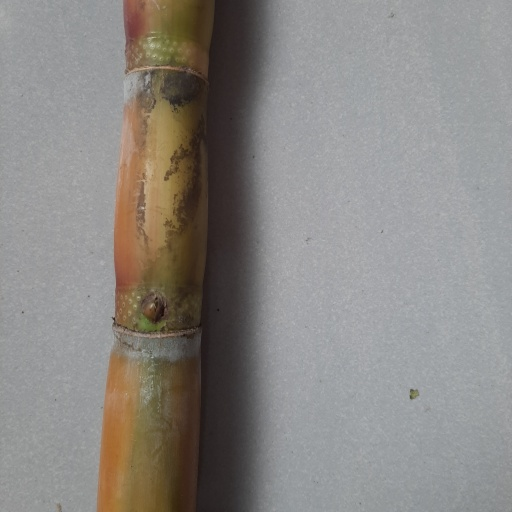Bud: (141, 294, 165, 325)
